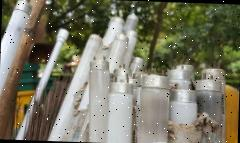lightbulb: (0, 0, 240, 143), (168, 88, 198, 124)
